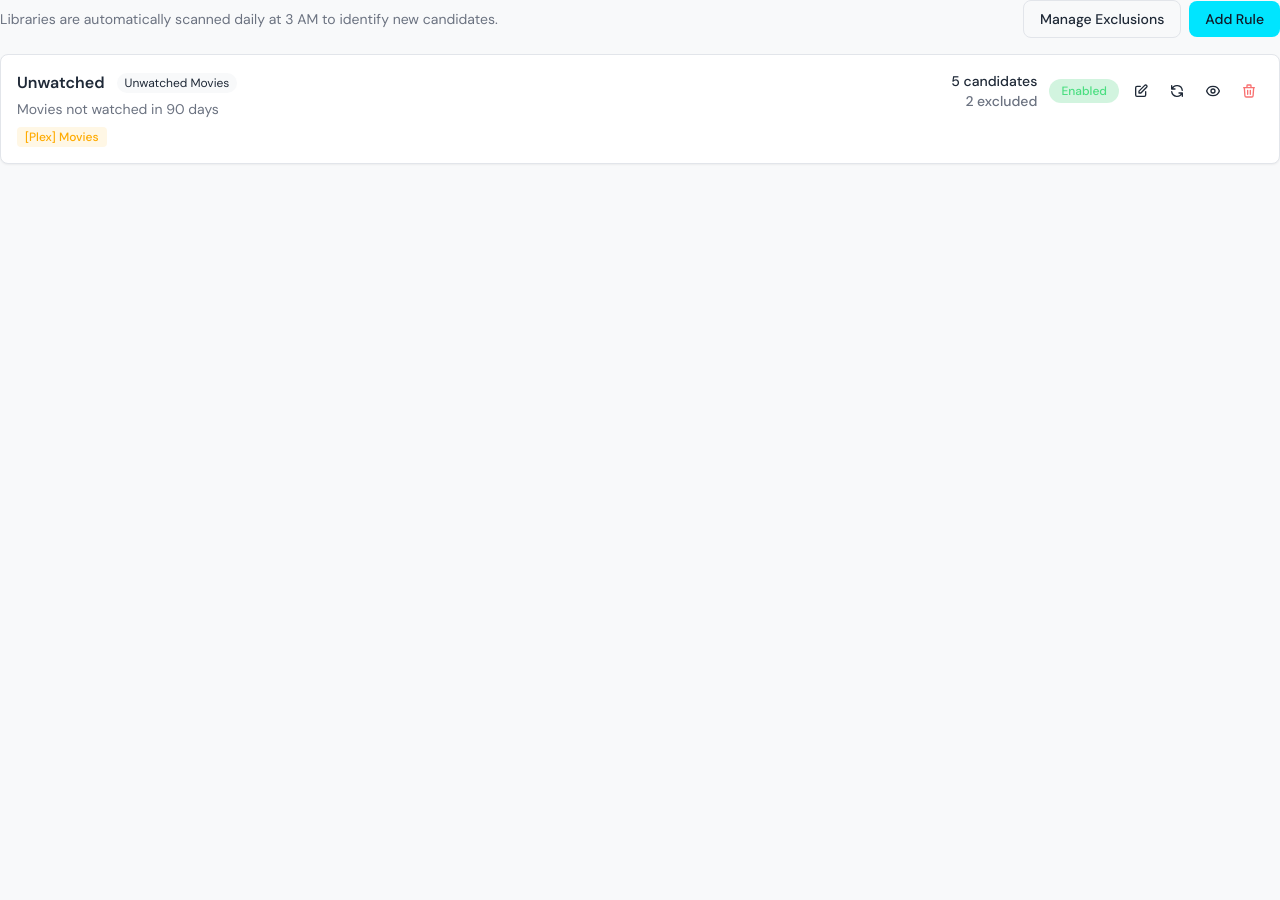
MaintenanceRulesTab clickable titles › CandidatesView › shows loading spinner in modal while fetching details
Click the button "5 candidates". click: (994, 81)
box: [951,71,1037,91]
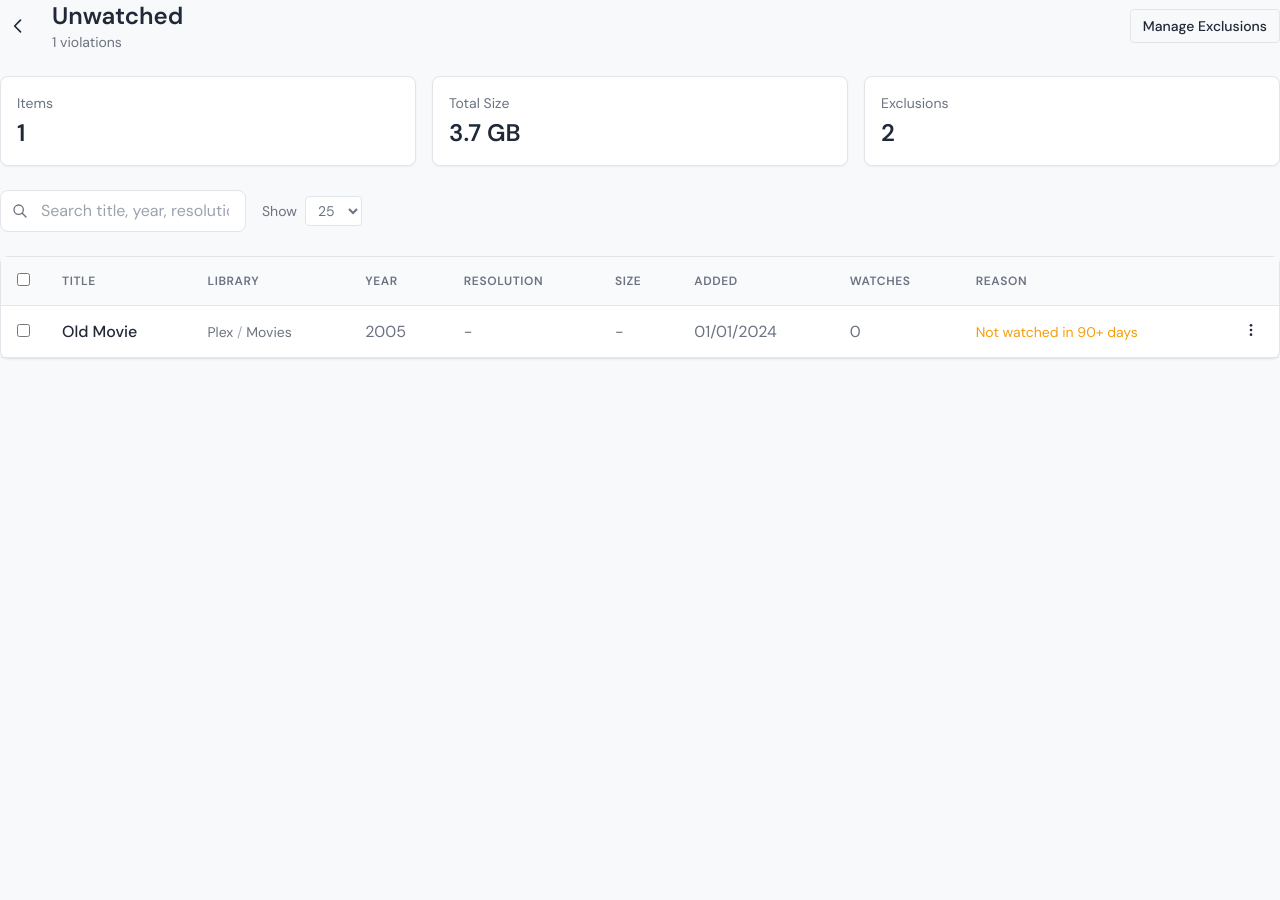
Now the button "Old Movie" is shown
Click the button with aria-label "View details for Old Movie". click: (100, 332)
box: [62,320,137,344]
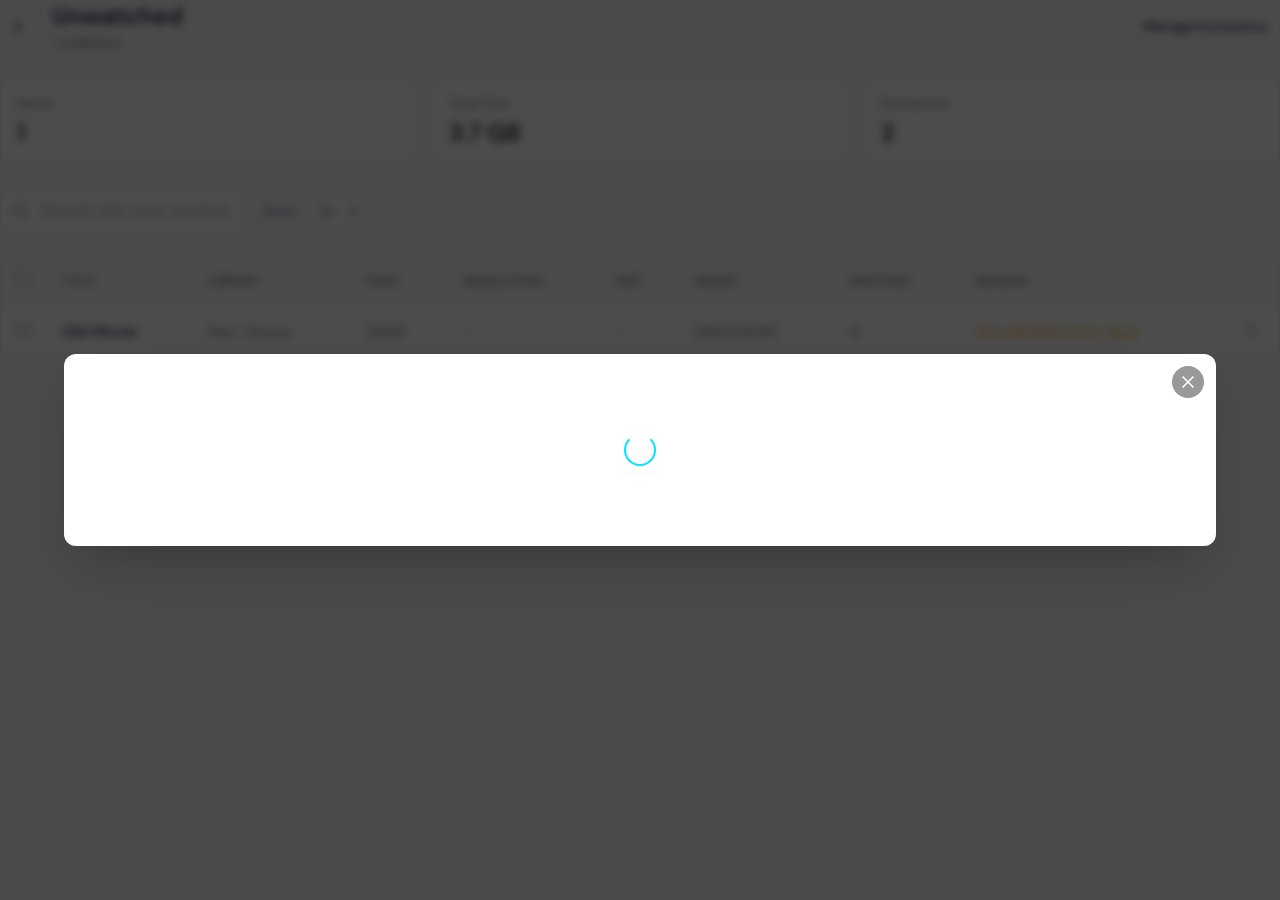
Now the element with class "animate-spin" is shown, box [624,434,656,466]
